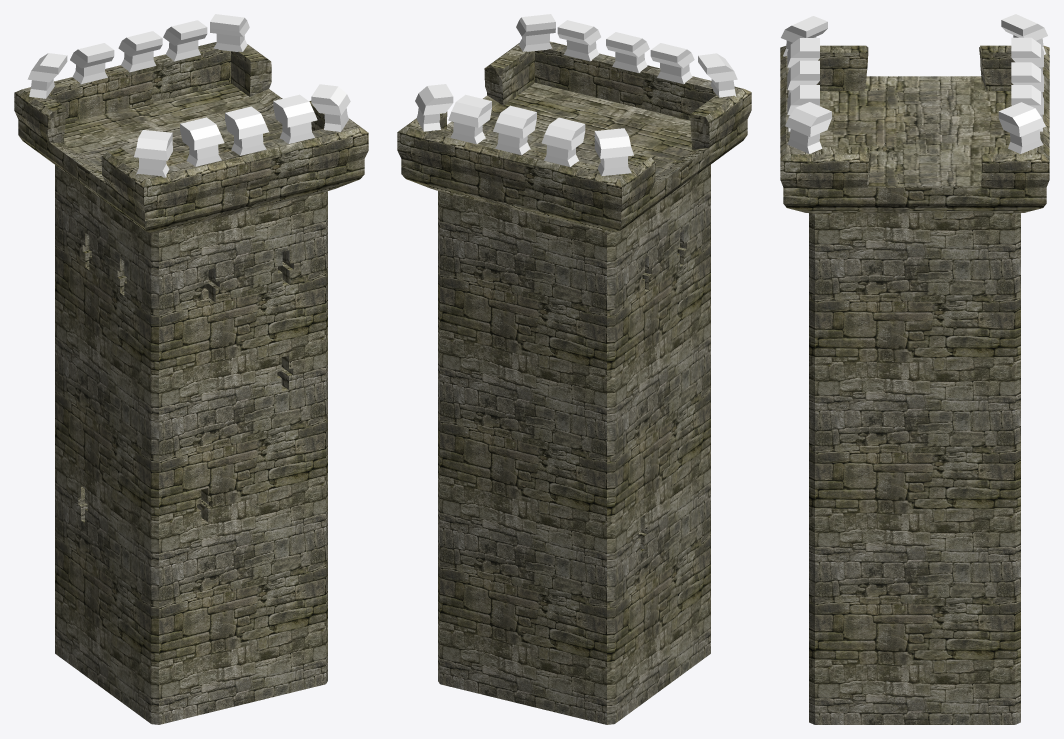
Rendered from tower2.fbx.
3 views of the same model, side by side, from view 1: azimuth 30°, elevation 25°; view 2: azimuth 150°, elevation 25°; view 3: azimuth 270°, elevation 25° (orthographic). The views are drawn at different scales.
Visible parts, largest first — view 1: Default_Layer; view 2: Default_Layer; view 3: Default_Layer.
Boxes of the visible parts, bbox=[...] form: Default_Layer: bbox=[14, 14, 368, 724]; Default_Layer: bbox=[397, 14, 751, 724]; Default_Layer: bbox=[780, 14, 1049, 724].
Bounding box in the file's own units: 1070 × 2695 × 1070.
